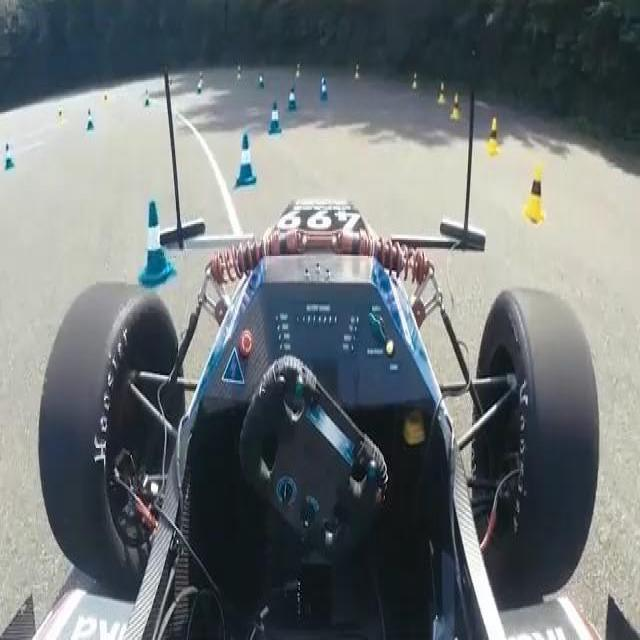blue_cone: (138, 201, 177, 292), (236, 133, 256, 188), (268, 101, 282, 134), (4, 144, 14, 171), (287, 87, 297, 112), (320, 78, 329, 102), (87, 110, 94, 132)
yellow_cone: (522, 166, 546, 224), (484, 117, 501, 157), (450, 94, 461, 119), (438, 82, 447, 104)
